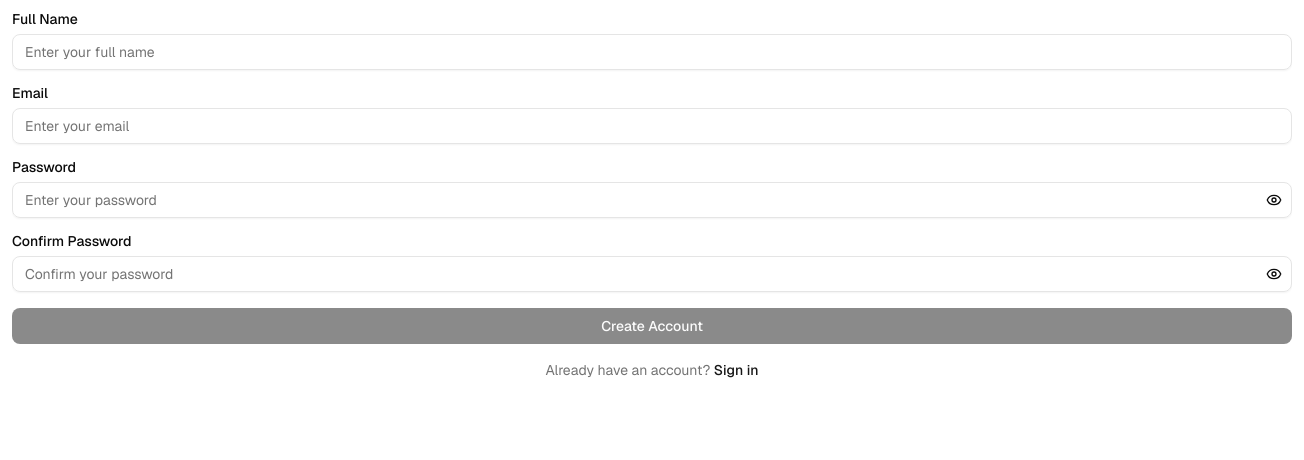
Test: RegisterForm Integration Tests › Form Submission - Success Cases › should handle successful registration with immediate login
The image size is (1304, 460).
Type "John Doe" into the field labelled "Full Name" at point(652, 52), box [12,34,1292,70]
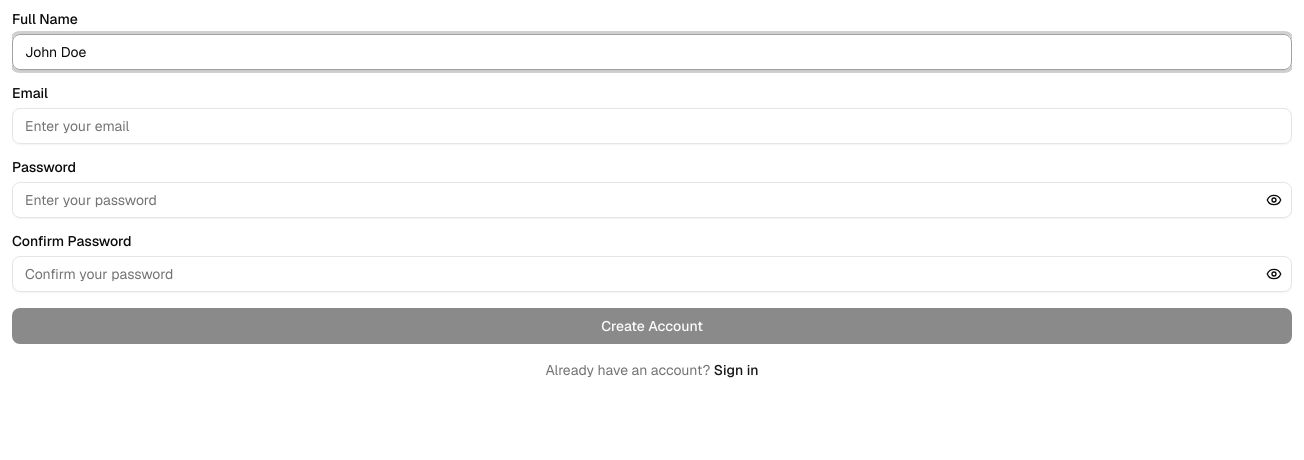
Type "john@example.com" into the field labelled "Email" at point(652, 126), box [12,108,1292,144]
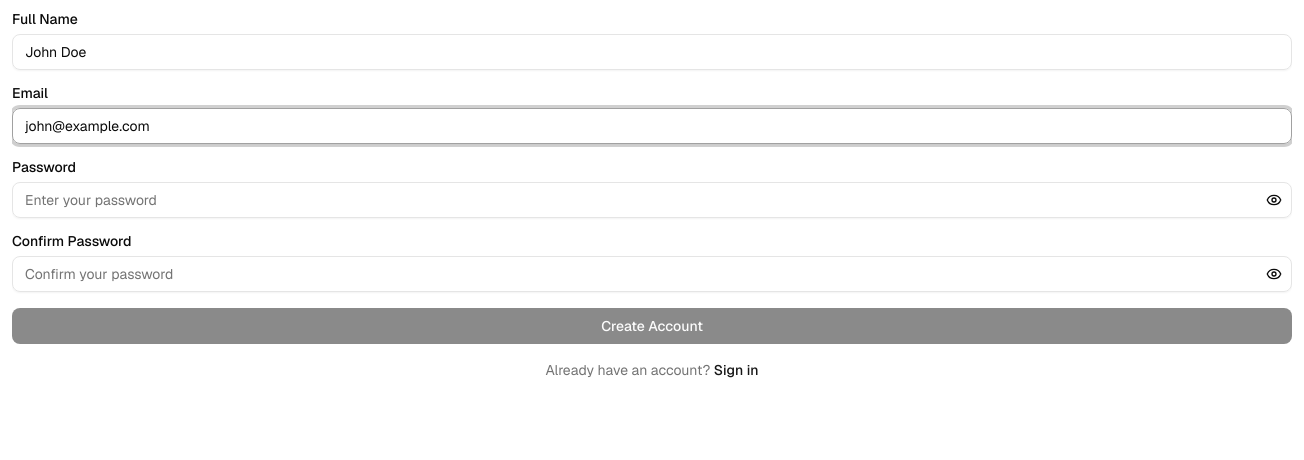
Type "password123" into the password field labelled "Password" at point(652, 200), box [12,182,1292,218]
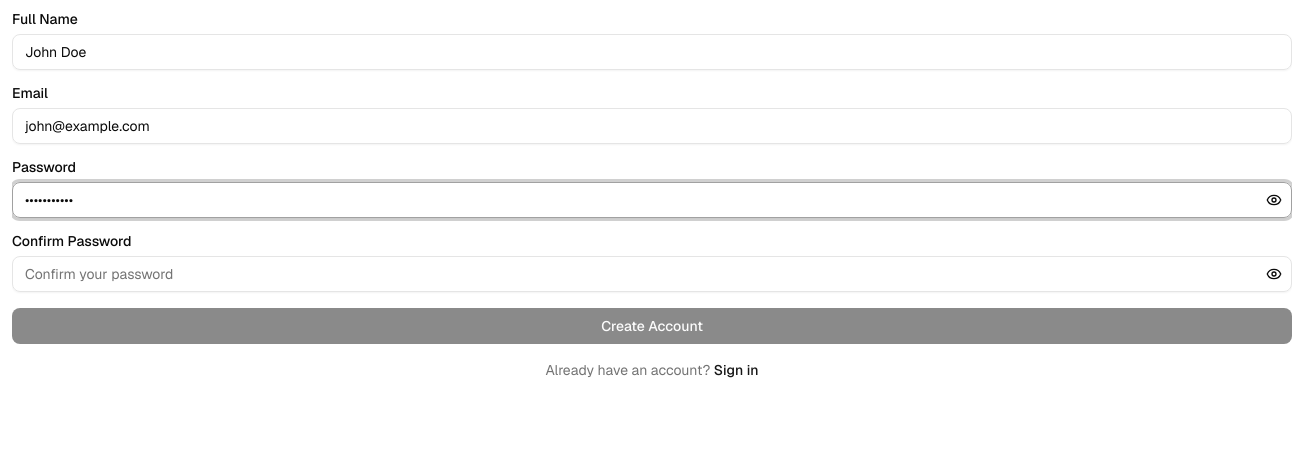
Type "password123" into the password field labelled "Confirm Password" at point(652, 274), box [12,256,1292,292]
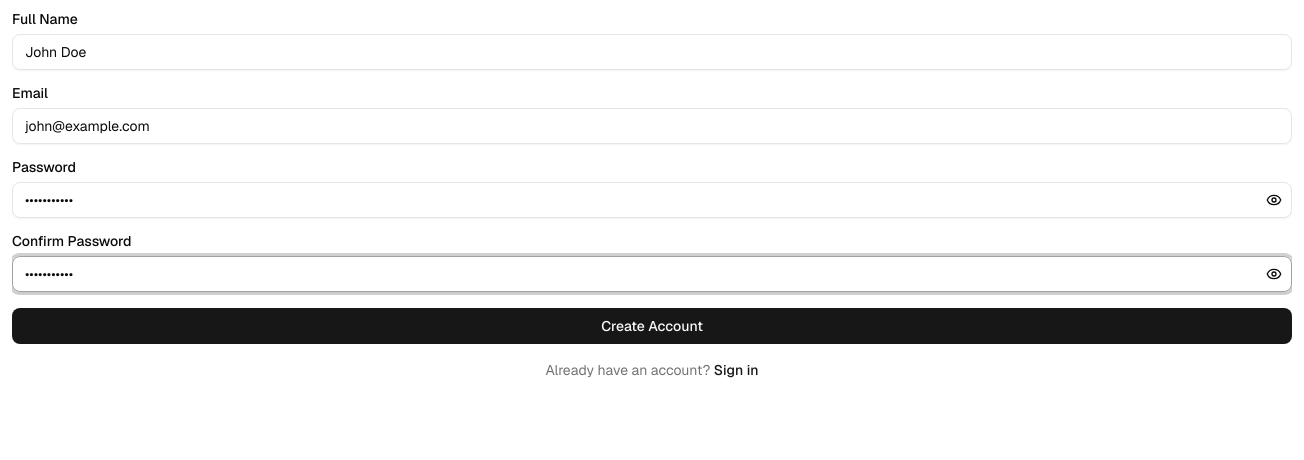
Click the button "Create Account" at point(652, 326), box [12,308,1292,344]
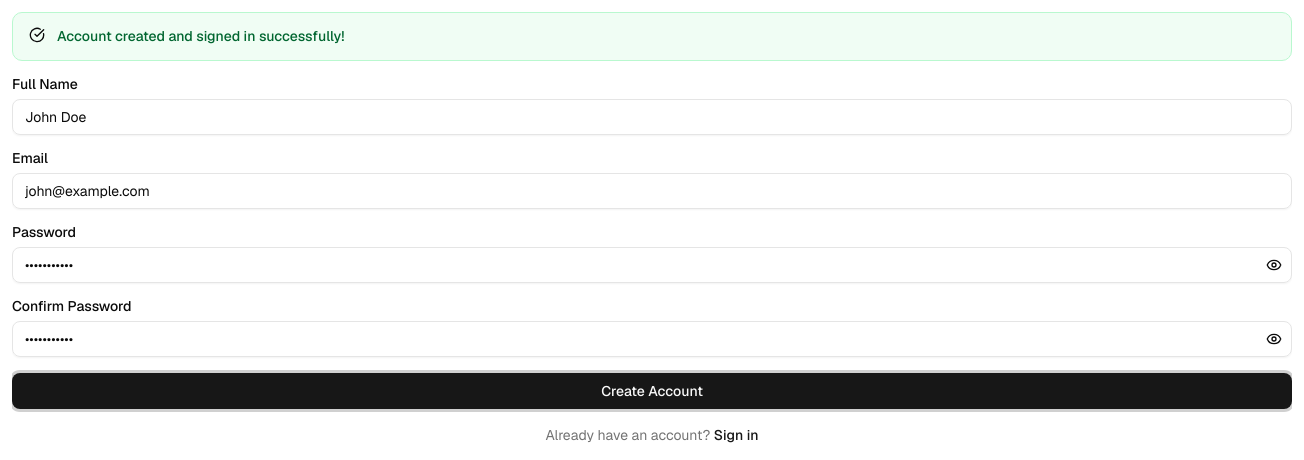
Result: the text "Account created and signed in successfully!" is shown at [57,25,344,48]
